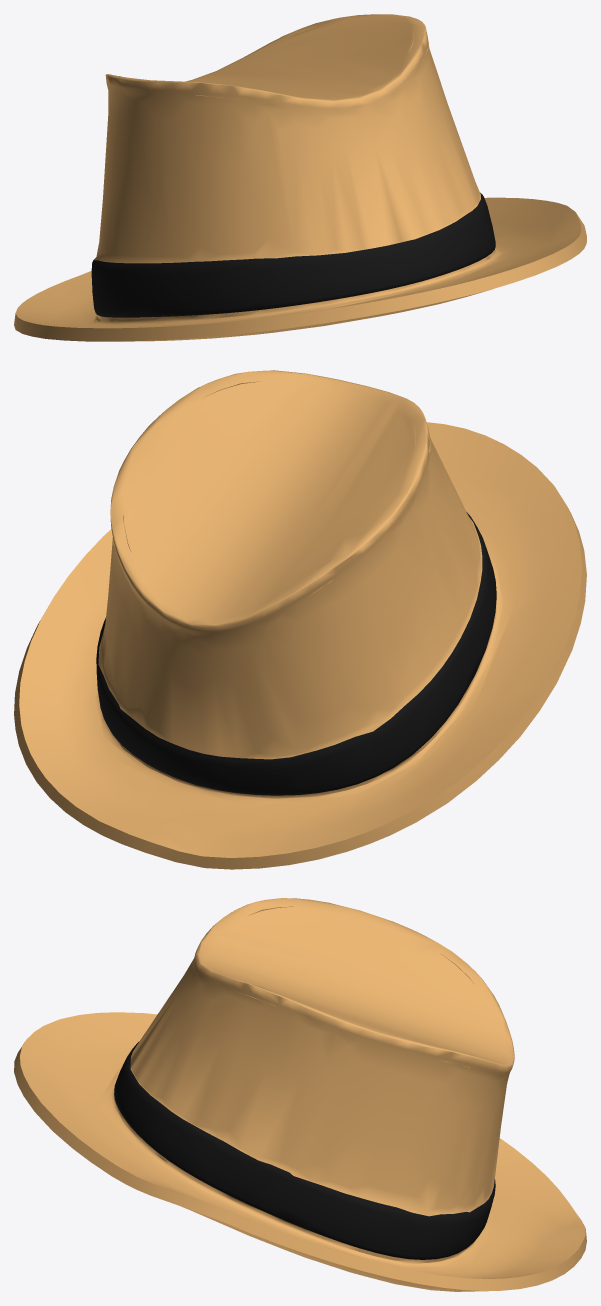
The model's file is headwear-hat-yellow-357f2834.glb.
3 views of the same model, one above another, from view 1: azimuth 30°, elevation 25°; view 2: azimuth 150°, elevation 25°; view 3: azimuth 270°, elevation 25° (orthographic). The views are drawn at different scales.
Visible parts, largest first — view 1: Geo_Black_Old_Male_Hat_Yellow.001; view 2: Geo_Black_Old_Male_Hat_Yellow.001; view 3: Geo_Black_Old_Male_Hat_Yellow.001.
Boxes of the visible parts, box(x1,y1,x2,y2) form: Geo_Black_Old_Male_Hat_Yellow.001: box(14, 14, 586, 341); Geo_Black_Old_Male_Hat_Yellow.001: box(14, 370, 586, 869); Geo_Black_Old_Male_Hat_Yellow.001: box(14, 898, 586, 1291).
Size of the model in its own units: 2.22 by 1.48 by 2.55.
